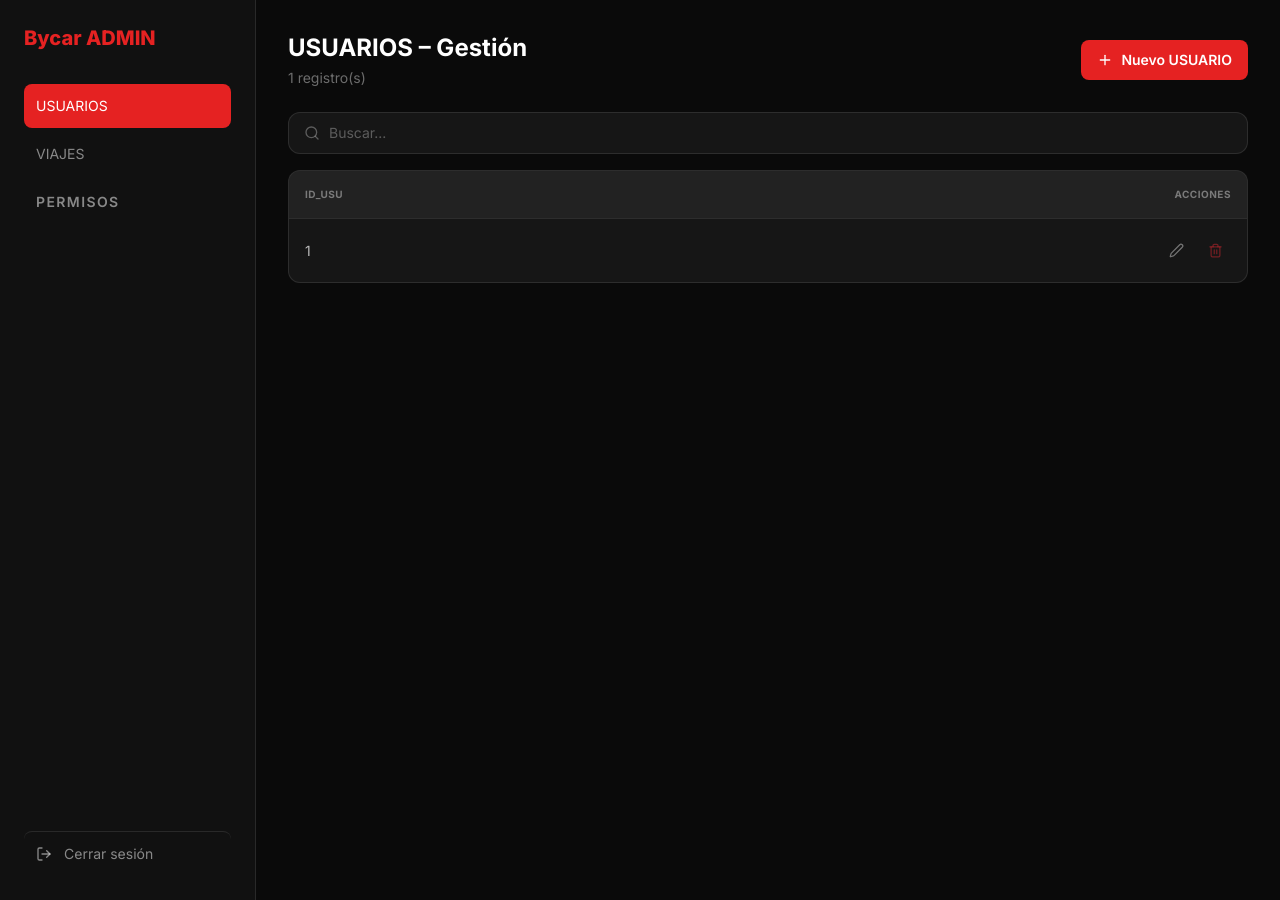
it: AdminPage ante errores de la API (F27) › si falla la metadata al cambiar de tabla: avisa y no deja filas de la tabla anterior
The image size is (1280, 900).
Expected: the column heading "ID_USU" is shown, [289, 171, 680, 218]
Click the button "VIAJES" at (128, 154), box [24, 132, 231, 176]
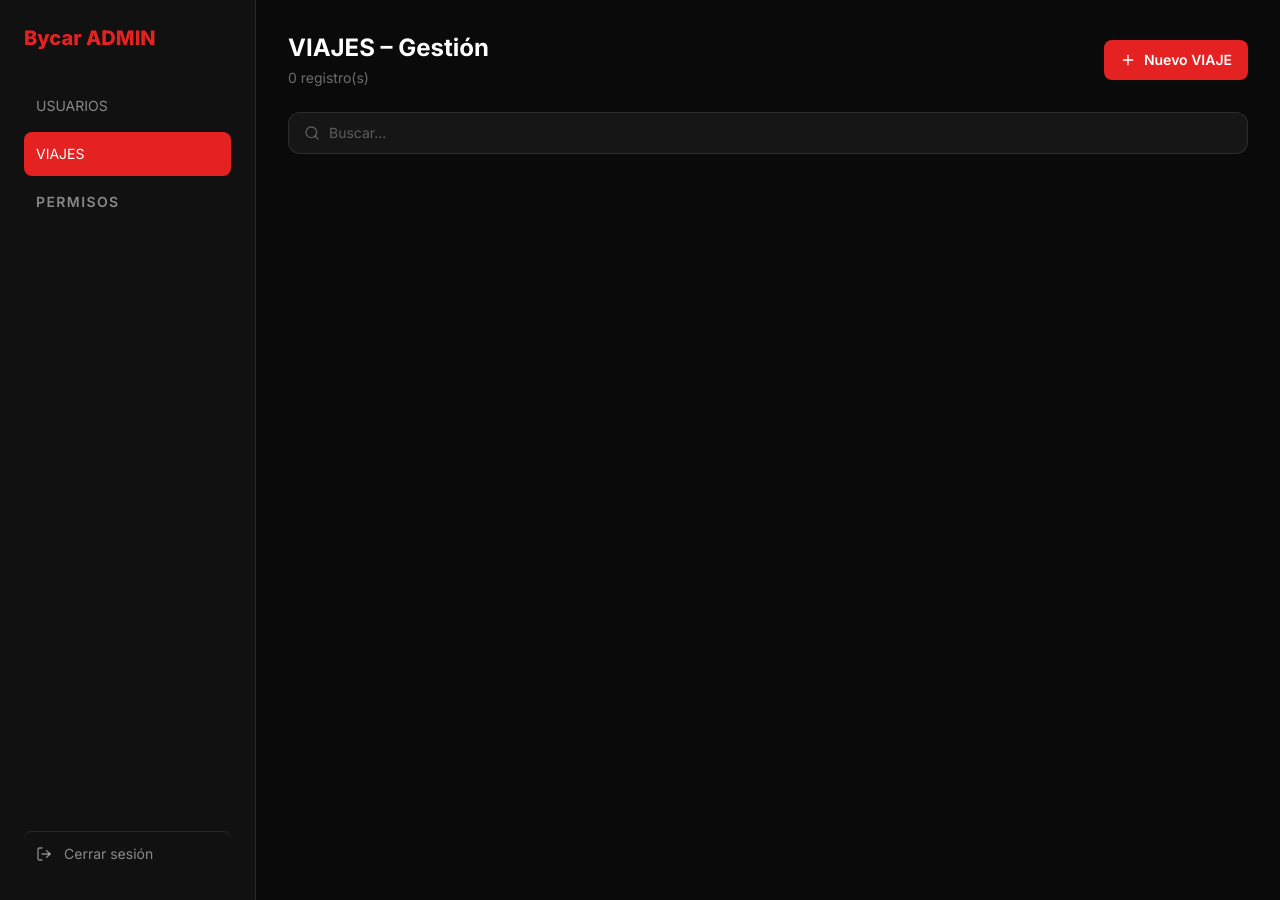
Now the column heading "ID_USU" is gone
Now the table is gone
